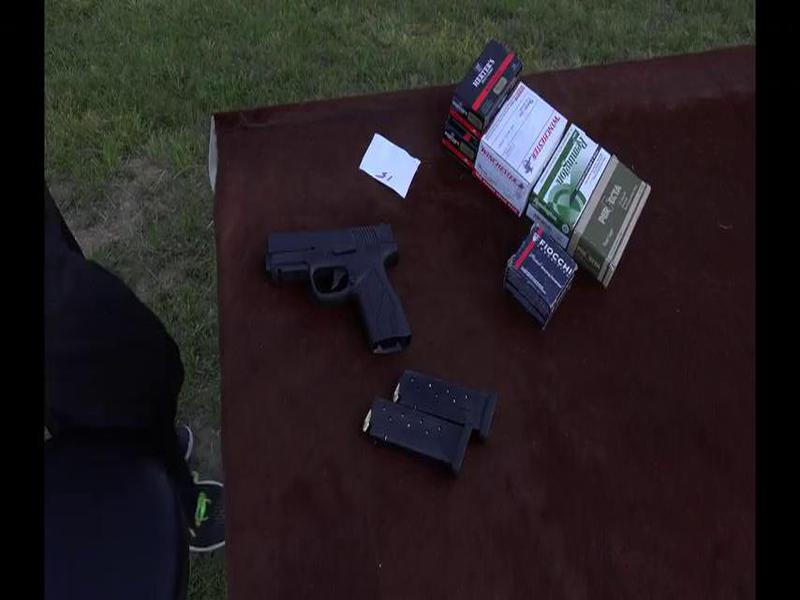Pistola: (264, 217, 422, 356)
